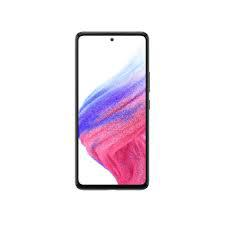Smartphone: (71, 25, 154, 202)
